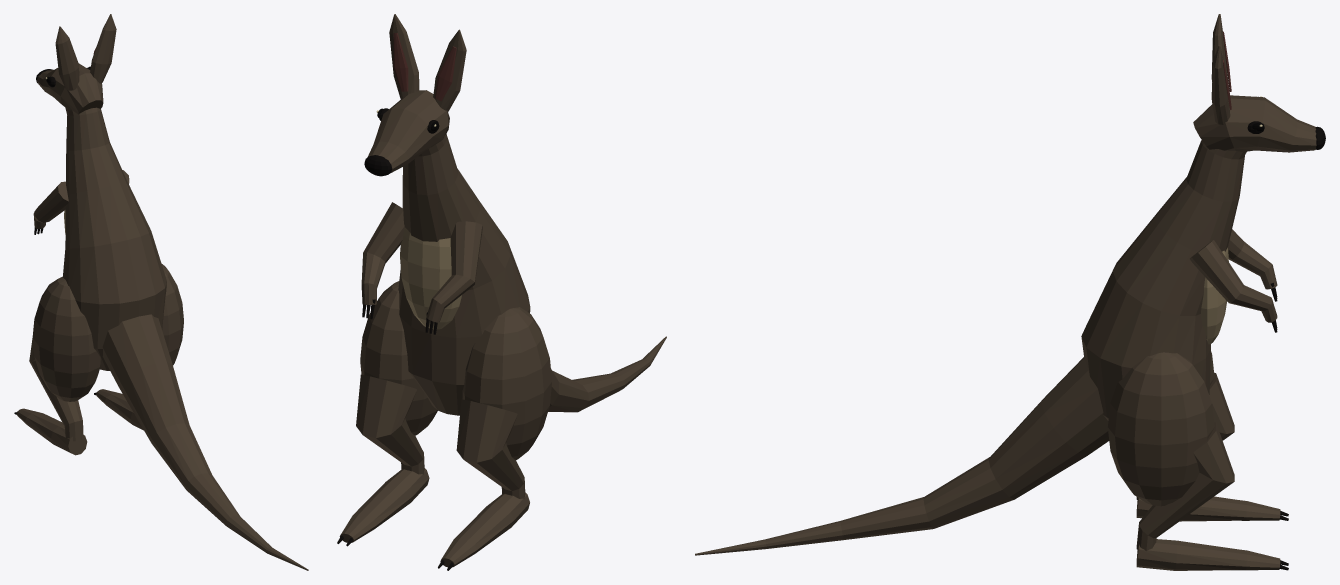
Rendered from kangaroo.dae.
3 renders of one model, left to right at view 1: azimuth 30°, elevation 25°; view 2: azimuth 150°, elevation 25°; view 3: azimuth 270°, elevation 25°, orthographic. The views are drawn at different scales.
Visible parts, largest first — view 1: Node; view 2: Node; view 3: Node.
Boxes of the visible parts, box(x1,y1,x2,y2) form: Node: box(14, 14, 308, 570); Node: box(337, 14, 666, 570); Node: box(695, 14, 1325, 570).
Bounding box in the file's own units: 0.5737 × 1.78 × 1.6.
